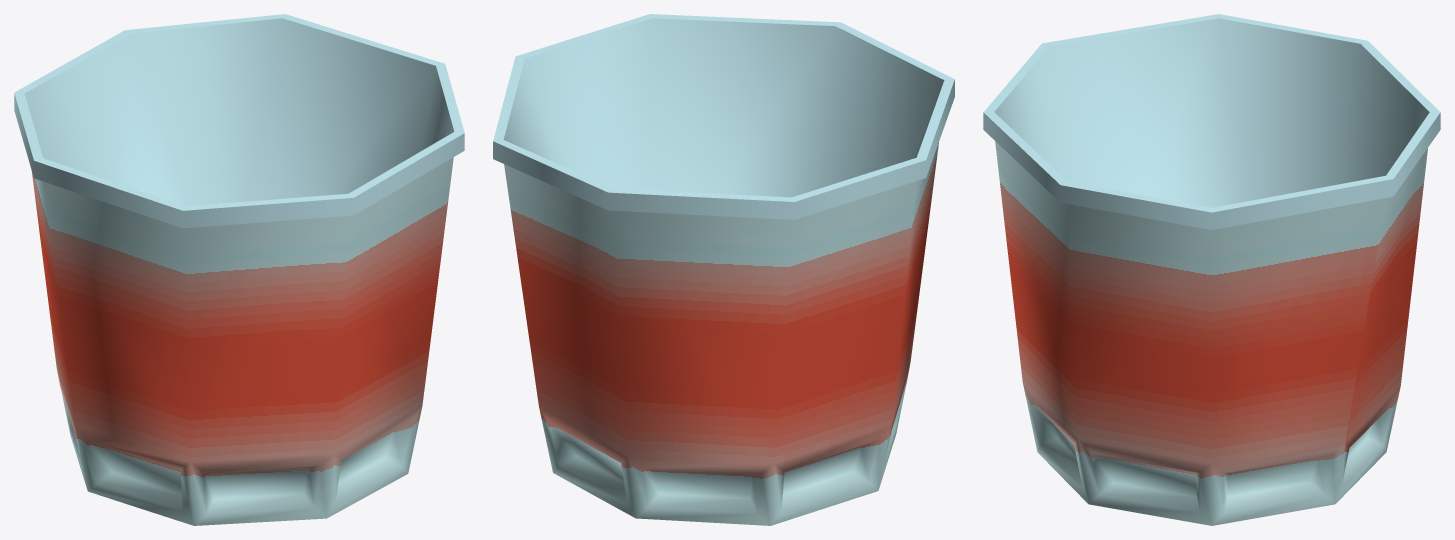
Rendered from LowballGlass_Empty.fbx.
3 renders of one model, left to right at view 1: azimuth 30°, elevation 25°; view 2: azimuth 150°, elevation 25°; view 3: azimuth 270°, elevation 25°, orthographic.
Visible parts, largest first — view 1: LowballGlass; view 2: LowballGlass; view 3: LowballGlass.
Part boxes in pixels (x1,y1,x2,y2): LowballGlass: (14,14,464,525); LowballGlass: (493,14,954,525); LowballGlass: (983,14,1440,525).
Size of the model in its own units: 19.99 by 15.96 by 19.44.
